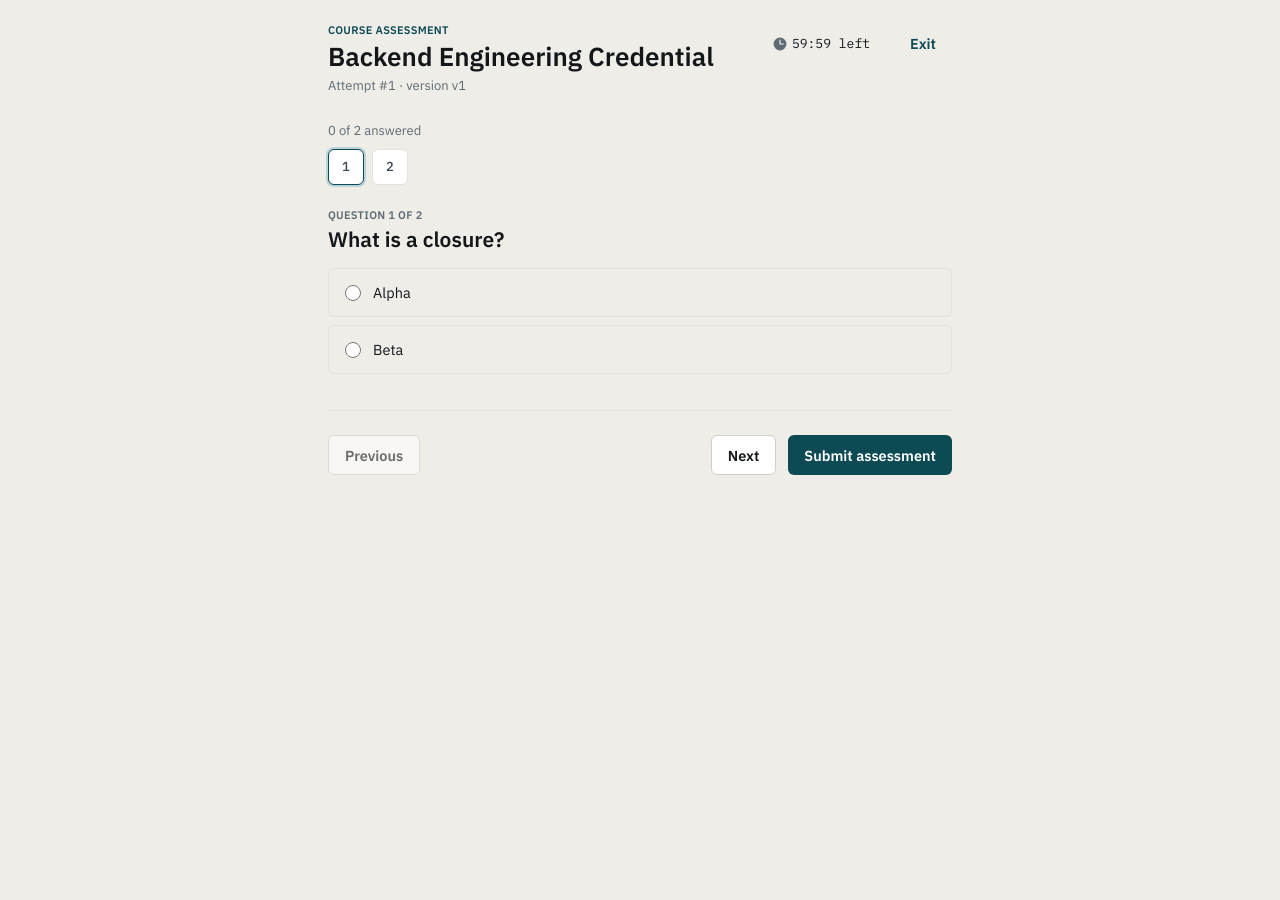
Test: AssessmentAttemptShell (runner) › submission → result transition › successful submit shows the result and clears "Submitting…"
Click the radio button labelled "Alpha" at (353, 293), box [345,285,361,301]
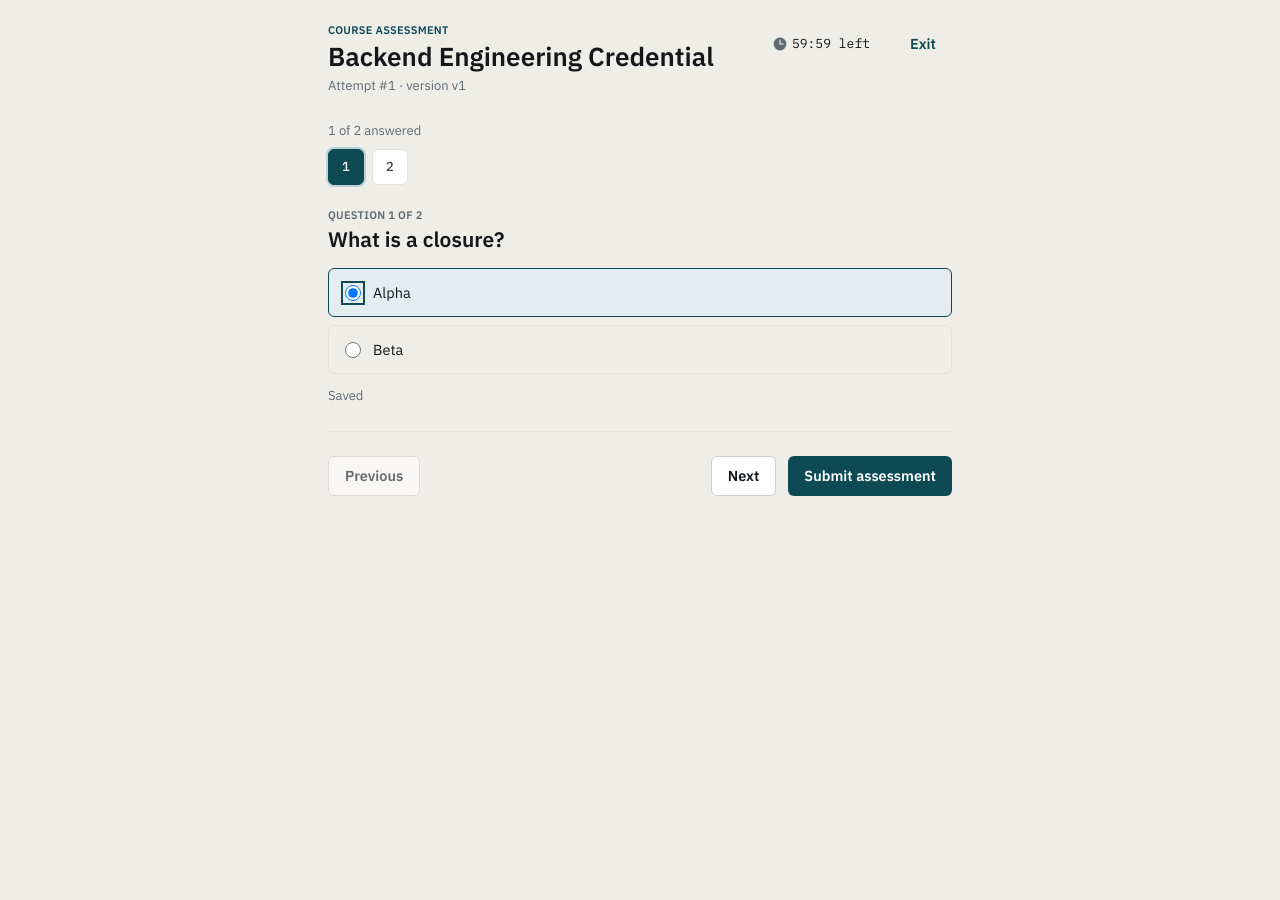
Click the button "Submit assessment" at (870, 476), box [788,456,952,496]
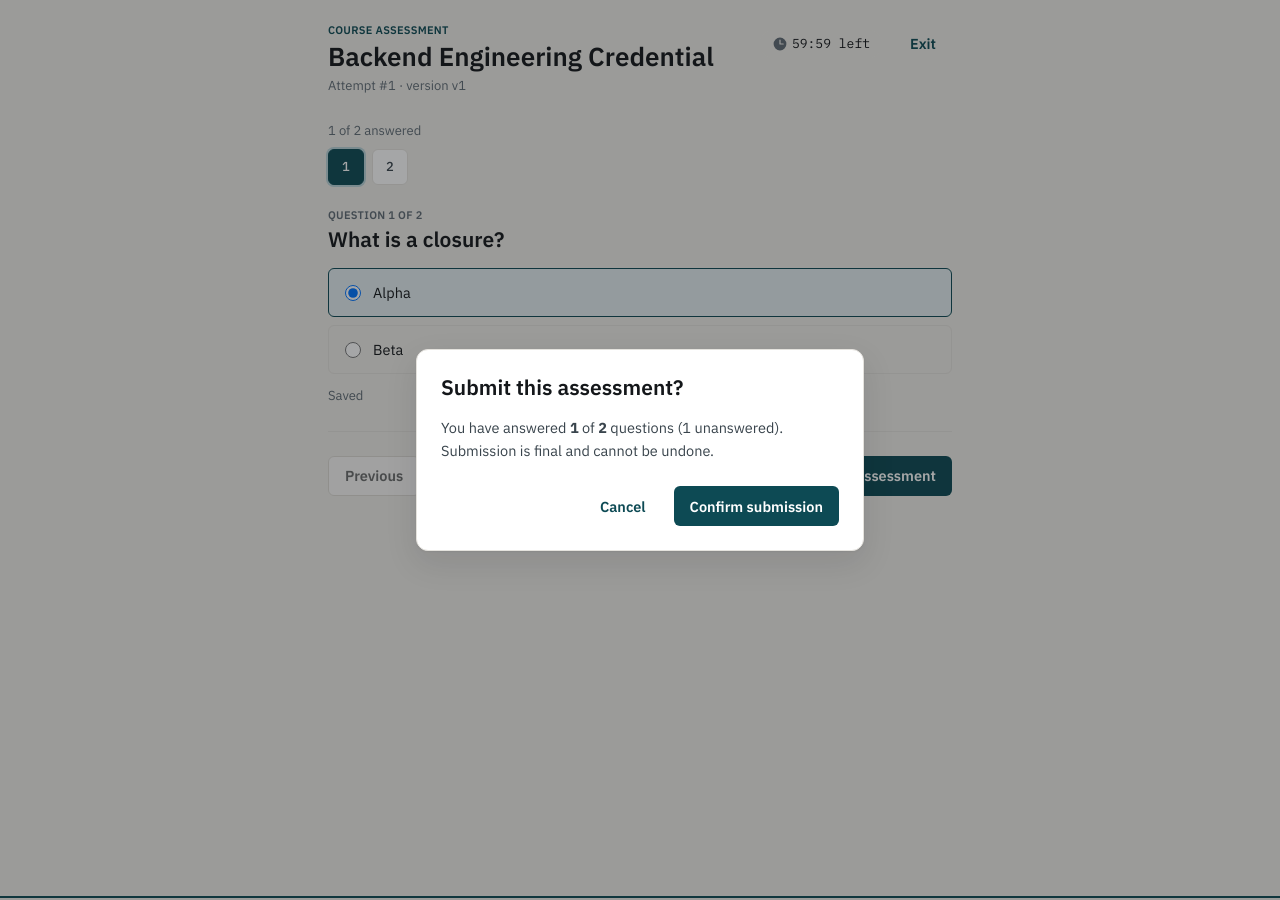
Click the button "Confirm submission" at (756, 506), box [674,486,839,526]
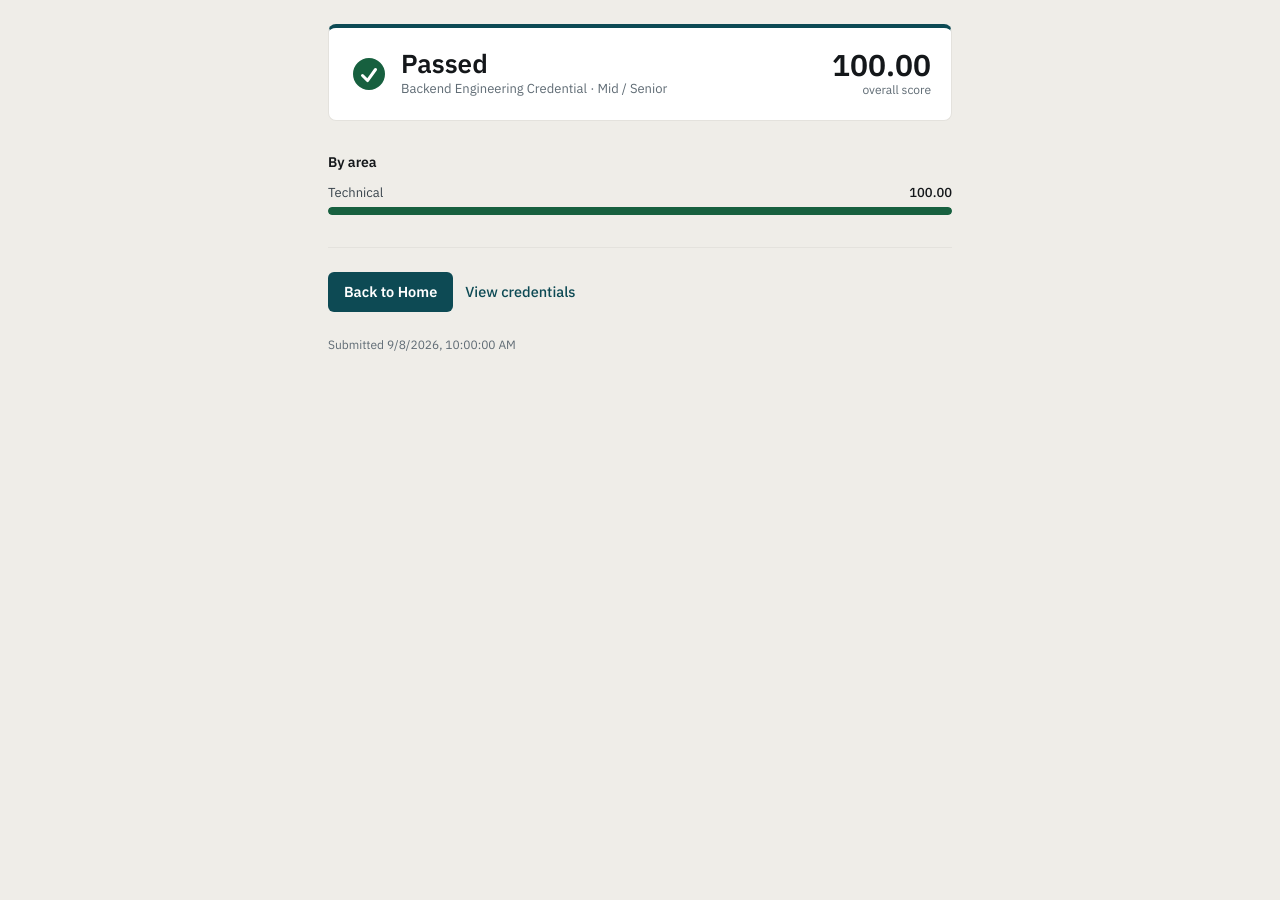
Result: the heading "Passed" is shown at [401,46,488,80]
